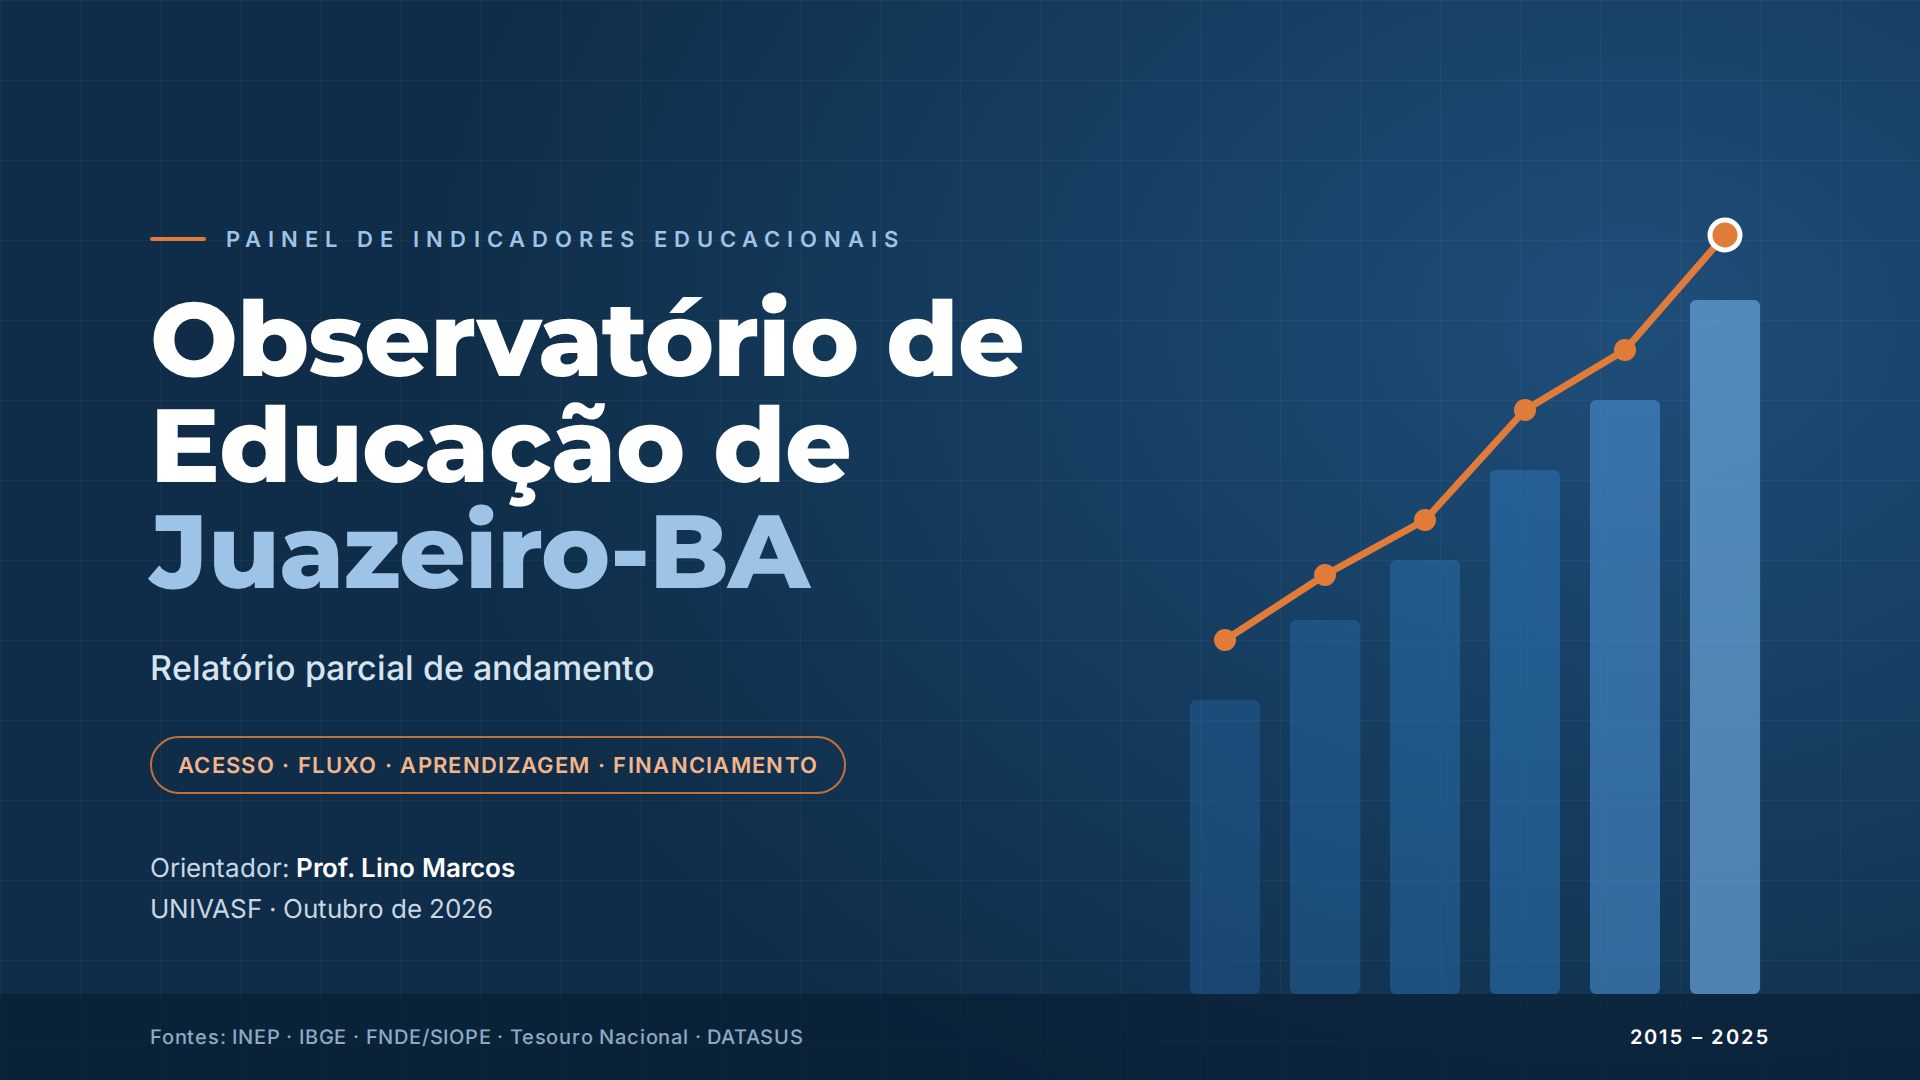

What the dashboard file says about the page in this screenshot:
{"tool":"powerbi","page":{"name":"Capa","canvas":[1920,1080],"ordinal":0},"visuals":[{"type":"textbox","box":[10,0,280,280],"z":0}]}

Visuals, with their boxes in screenshot pixels (x1, y1, x2, y2), scaled from the page's 1920x1080 canvas onto the 1920x1080 screenshot:
textbox: bbox(10, 0, 290, 280)
